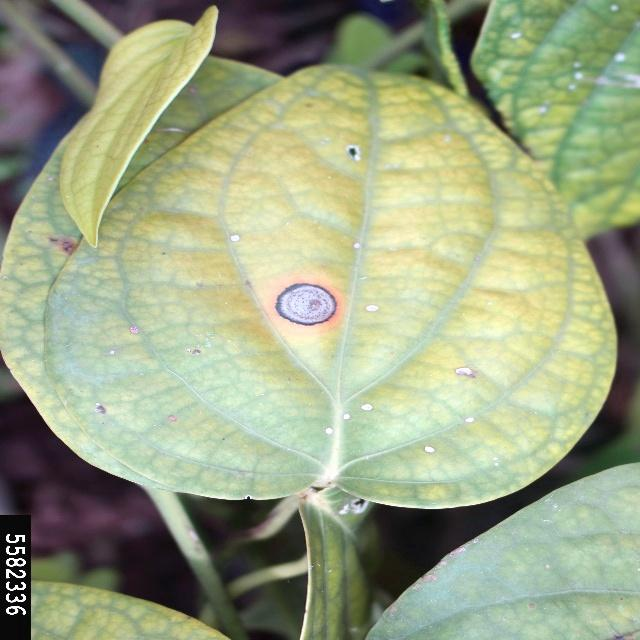leaf_spot: (185, 193, 473, 493)
